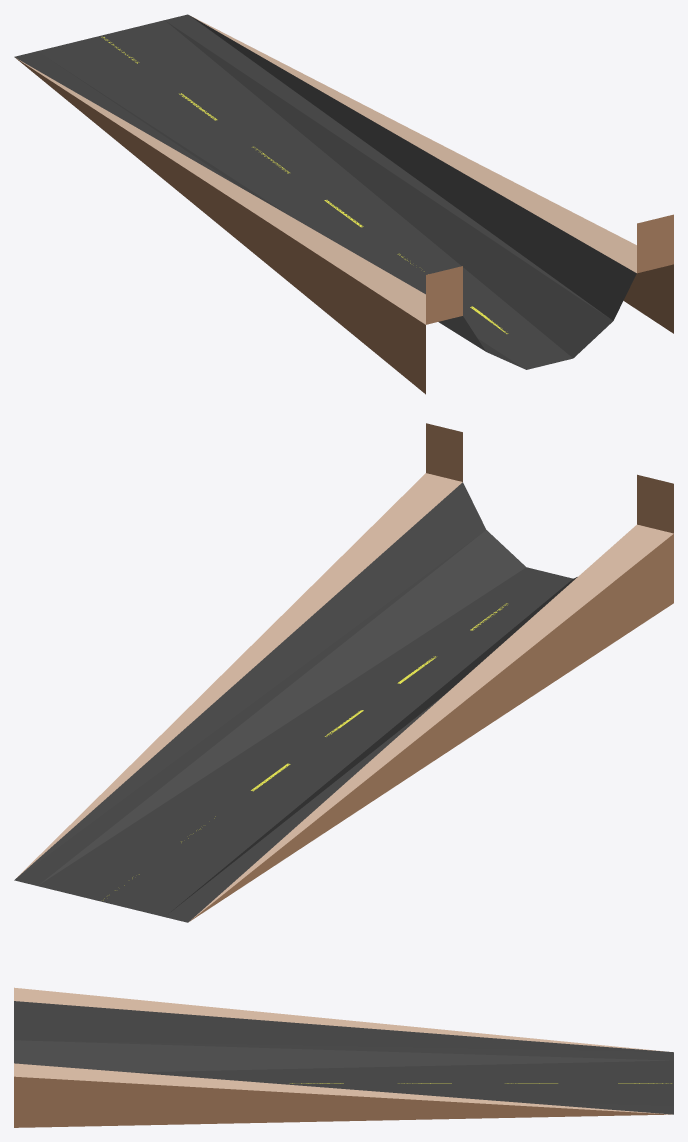
Rendered from spip.obj.
3 views of the same model, one above another, from view 1: azimuth 30°, elevation 25°; view 2: azimuth 150°, elevation 25°; view 3: azimuth 270°, elevation 25° (orthographic). The views are drawn at different scales.
Size of the model in its own units: 328 by 151 by 1028.
